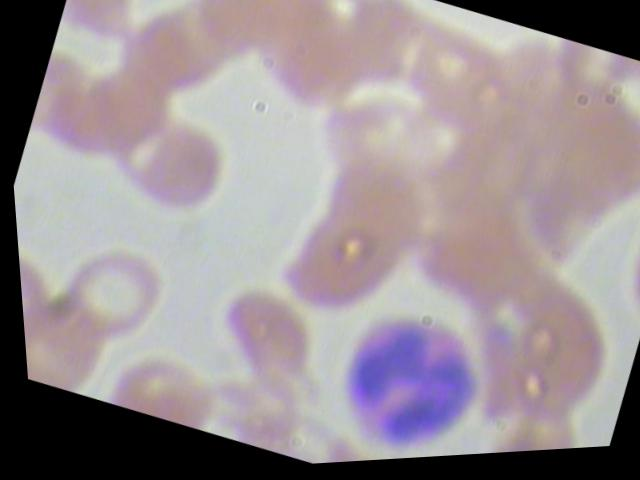White Blood Cells: (303, 295, 506, 466)
